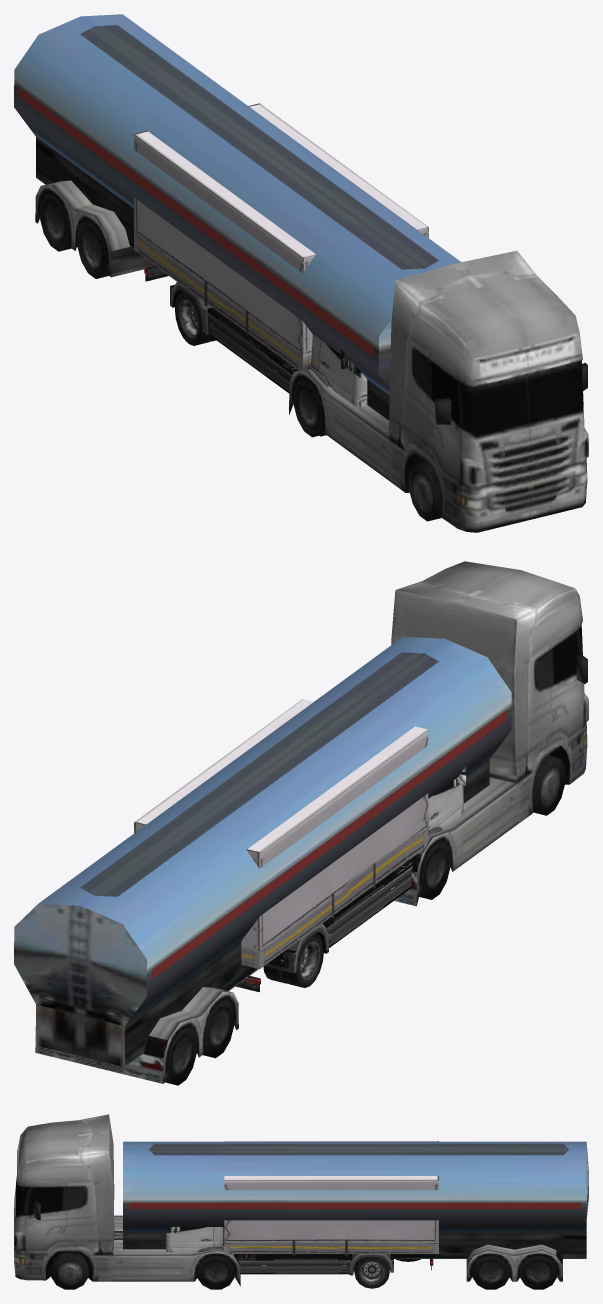
File: trucks.glb
The picture shows the model from 3 angles, top to bottom: view 1: azimuth 30°, elevation 25°; view 2: azimuth 150°, elevation 25°; view 3: azimuth 270°, elevation 25°; orthographic projection. The views are drawn at different scales.
Parts seen in each view (by area): view 1: artic, boxTruck; view 2: artic, boxTruck; view 3: artic, boxTruck.
Boxes of the visible parts, x1,y1,x2,y2 form: artic: [14, 14, 588, 532]; boxTruck: [134, 103, 428, 436]; artic: [14, 561, 588, 1085]; boxTruck: [134, 699, 466, 991]; artic: [14, 1114, 588, 1289]; boxTruck: [166, 1141, 438, 1288].
Bounding box in the file's own units: 2.93 × 4.03 × 15.18.
5 materials, 5 textured.
